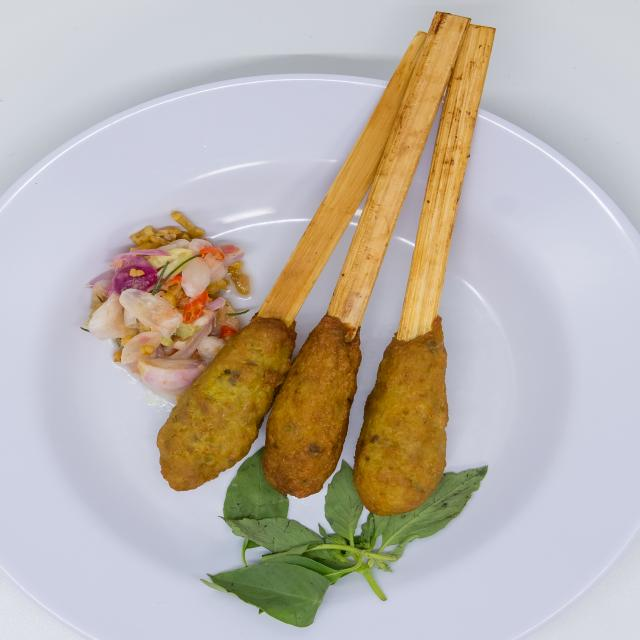Sate-Lilit: (130, 11, 536, 558)
